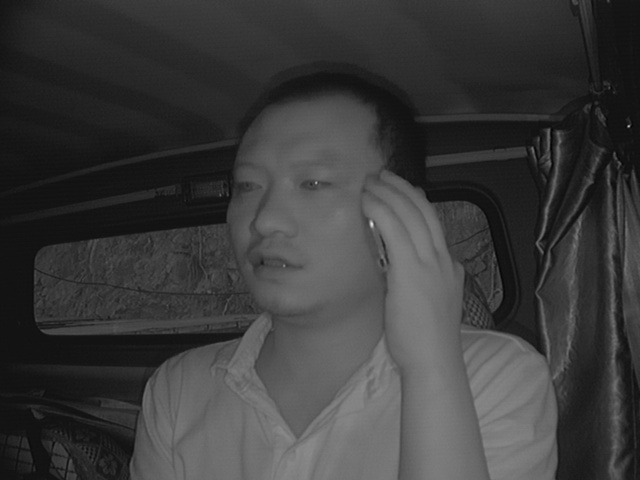hand: (358, 170, 471, 341)
